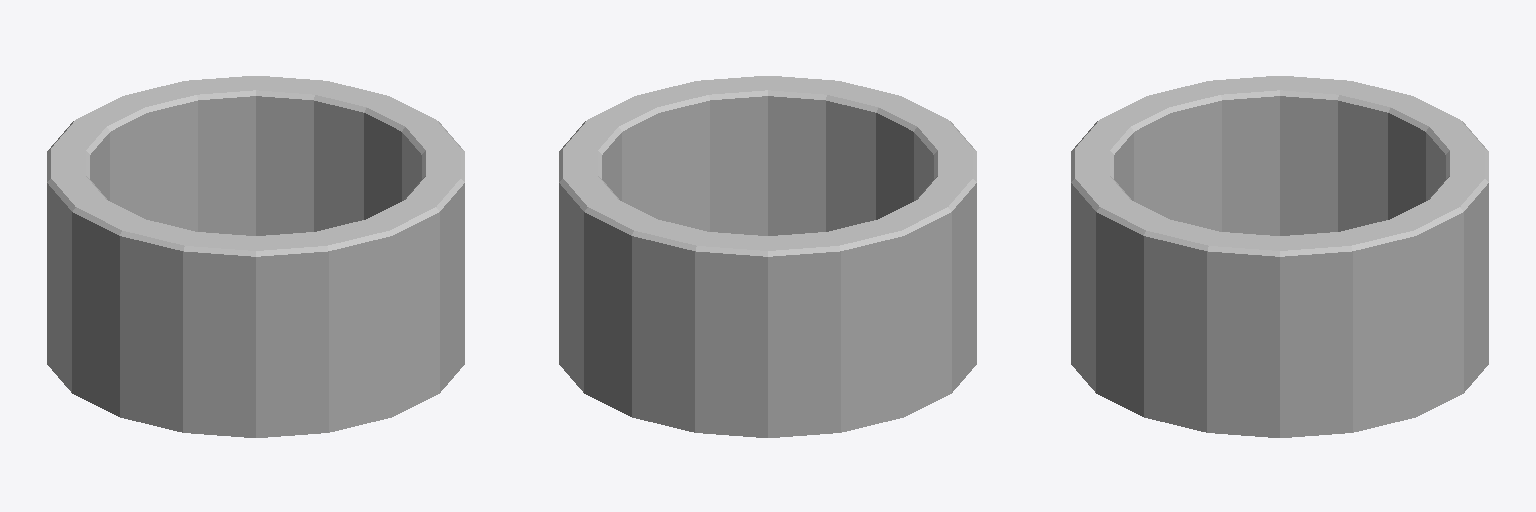
The model's file is wallSP.obj.
3 renders of one model, left to right at view 1: azimuth 30°, elevation 25°; view 2: azimuth 150°, elevation 25°; view 3: azimuth 270°, elevation 25°, orthographic.
Parts seen in each view (by area): view 1: g Well_L_Well_L; view 2: g Well_L_Well_L; view 3: g Well_L_Well_L.
Part boxes in pixels (x1,y1,x2,y2): g Well_L_Well_L: (47,76,464,437); g Well_L_Well_L: (559,76,976,437); g Well_L_Well_L: (1071,76,1488,437).
Bounding box in the file's own units: 276 × 133 × 272.